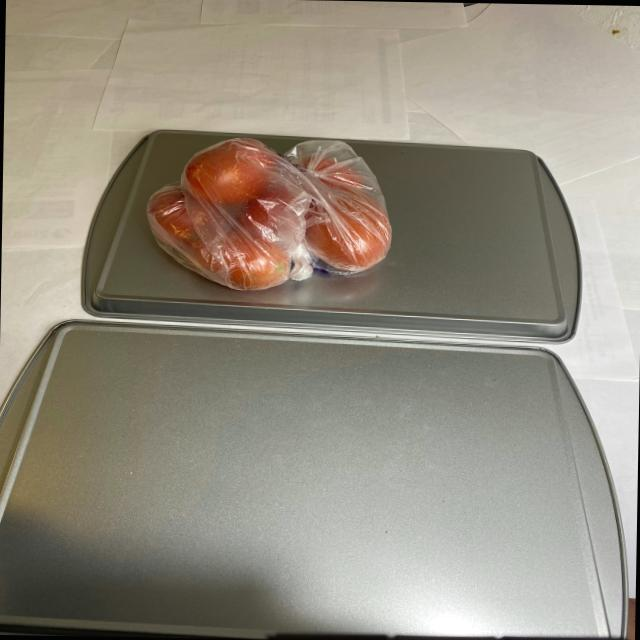tomato: (143, 140, 390, 291)
